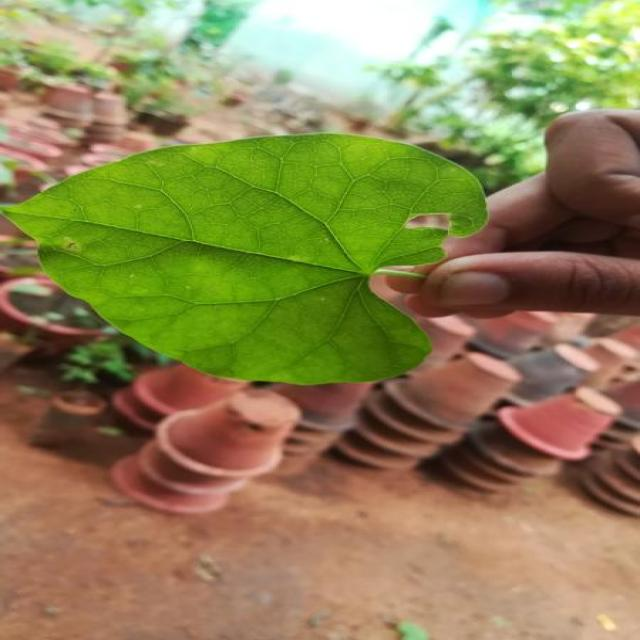Amruthaballi: (7, 134, 487, 383)
defectedAmruthaballi: (367, 141, 487, 272)
